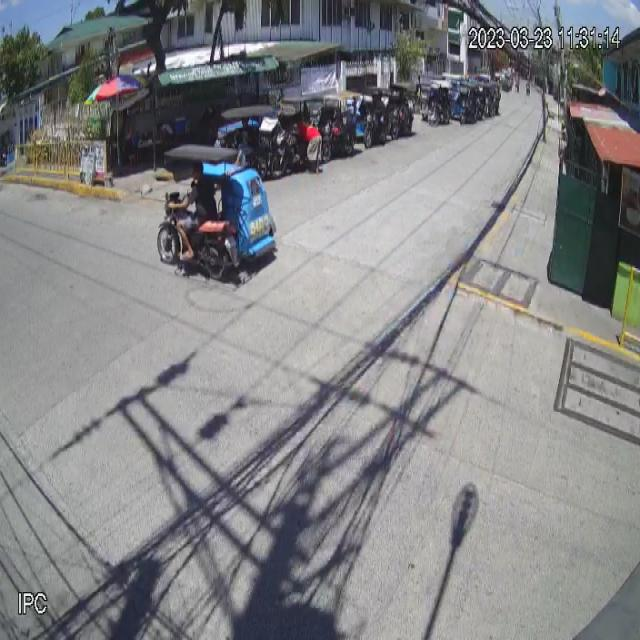Tricycle: (157, 145, 276, 281)
